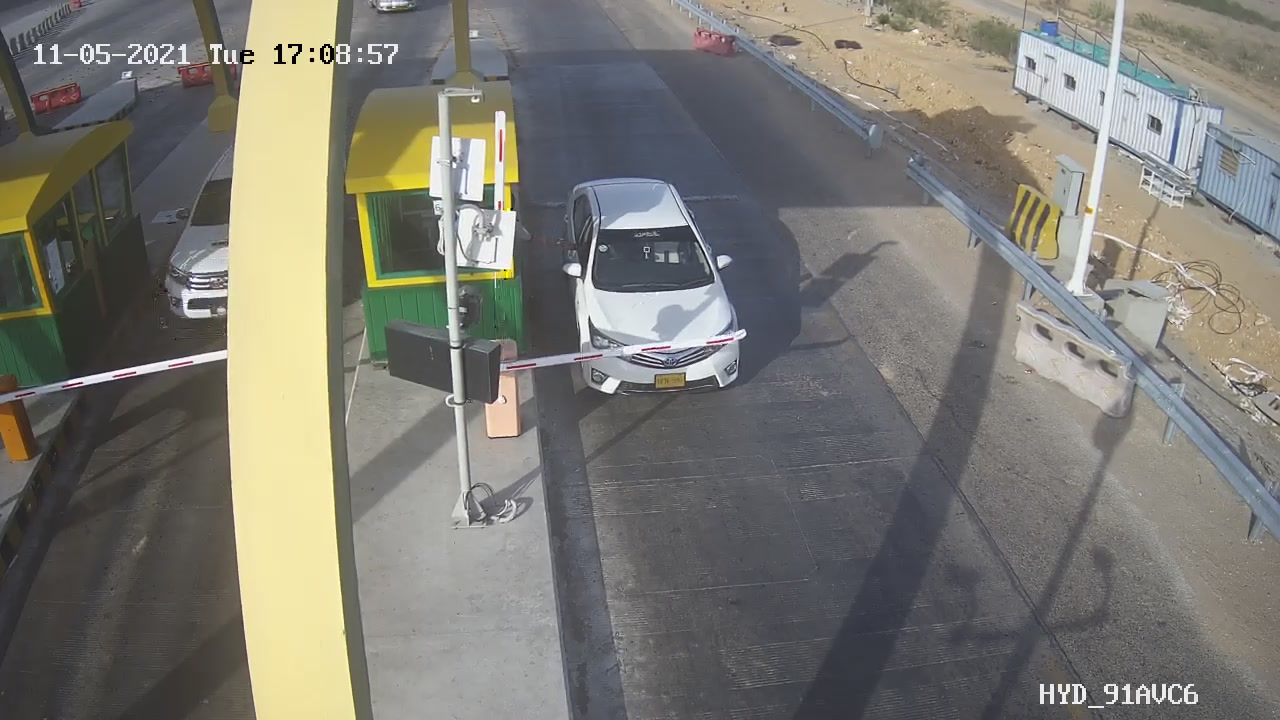F1: (542, 161, 768, 416)
